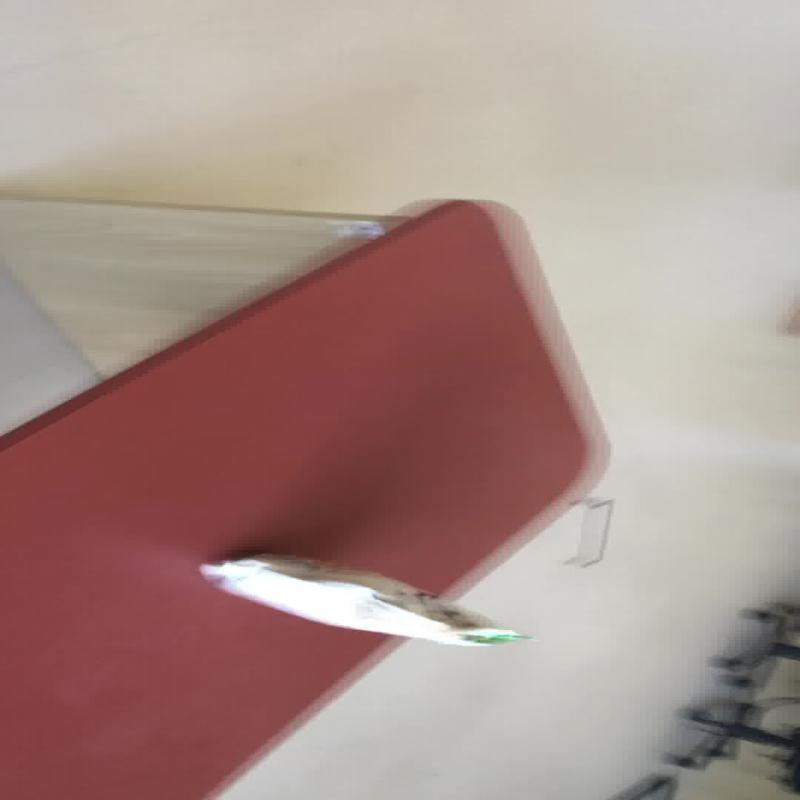corn flakes: (2, 193, 614, 796), (196, 550, 534, 648)
